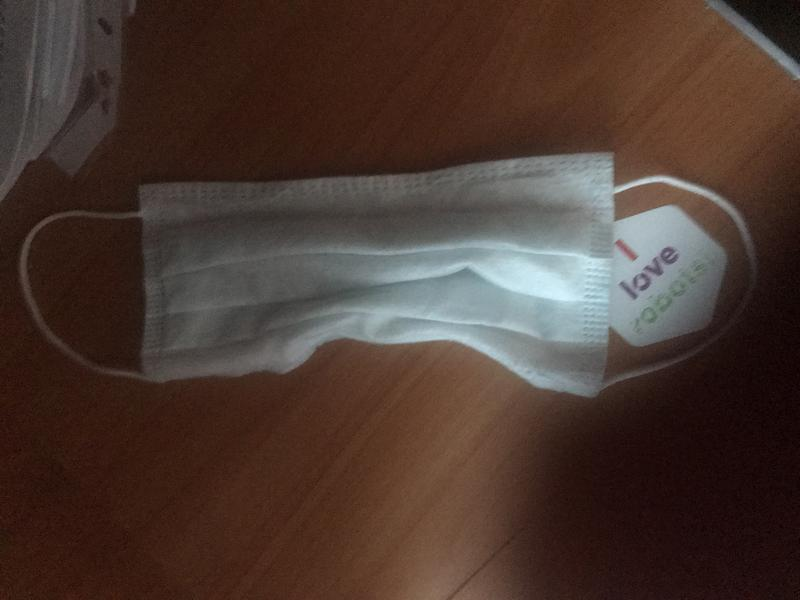medical_mask: (18, 154, 756, 398)
